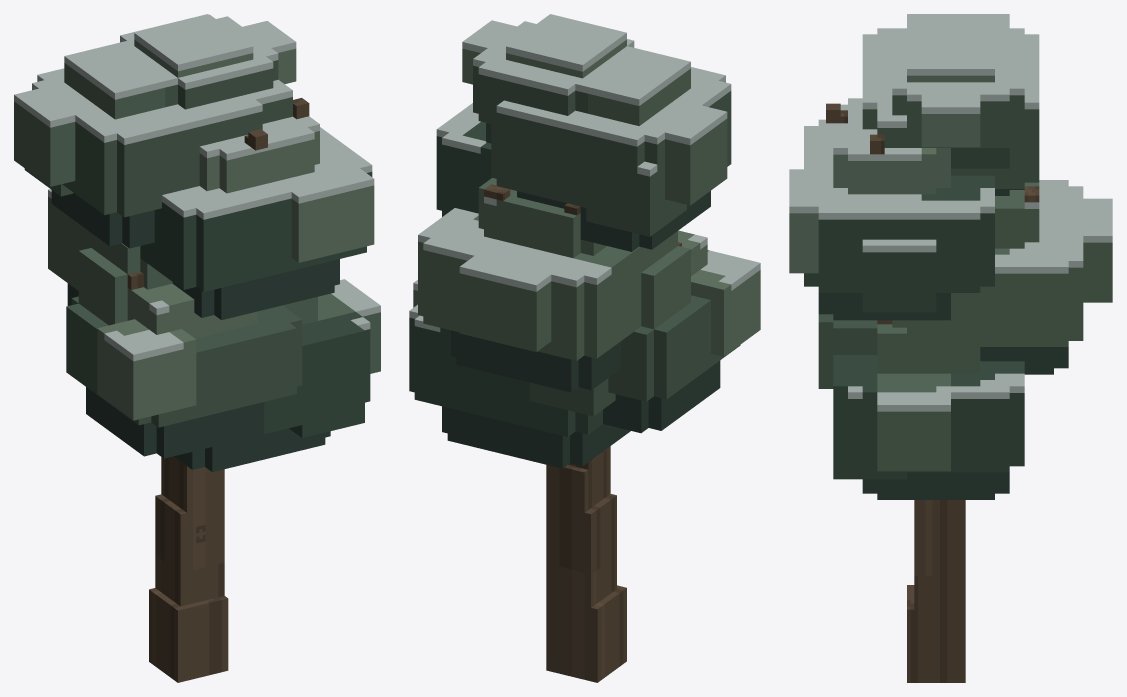
File: juniper_mature_winter_picked.glb
3 renders of one model, left to right at view 1: azimuth 30°, elevation 25°; view 2: azimuth 150°, elevation 25°; view 3: azimuth 270°, elevation 25°, orthographic.
Visible parts, largest first — view 1: VoxelVisual; view 2: VoxelVisual; view 3: VoxelVisual.
Part boxes in pixels (x1=…): VoxelVisual: x1=14, y1=14, x2=380, y2=682; VoxelVisual: x1=409, y1=14, x2=760, y2=682; VoxelVisual: x1=789, y1=14, x2=1112, y2=682.
Size of what is drawn, in the model's own units: 6 by 11.75 by 5.5.
